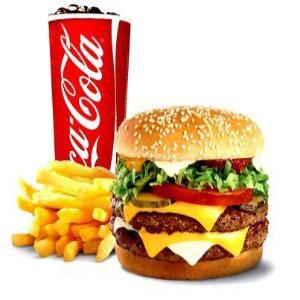cheeseburger: (116, 101, 274, 278)
fries: (13, 158, 116, 264)
